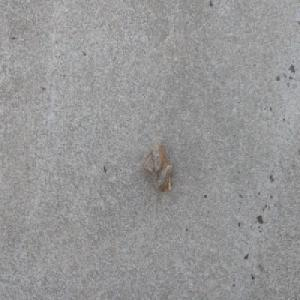Rock: (139, 135, 172, 194)
